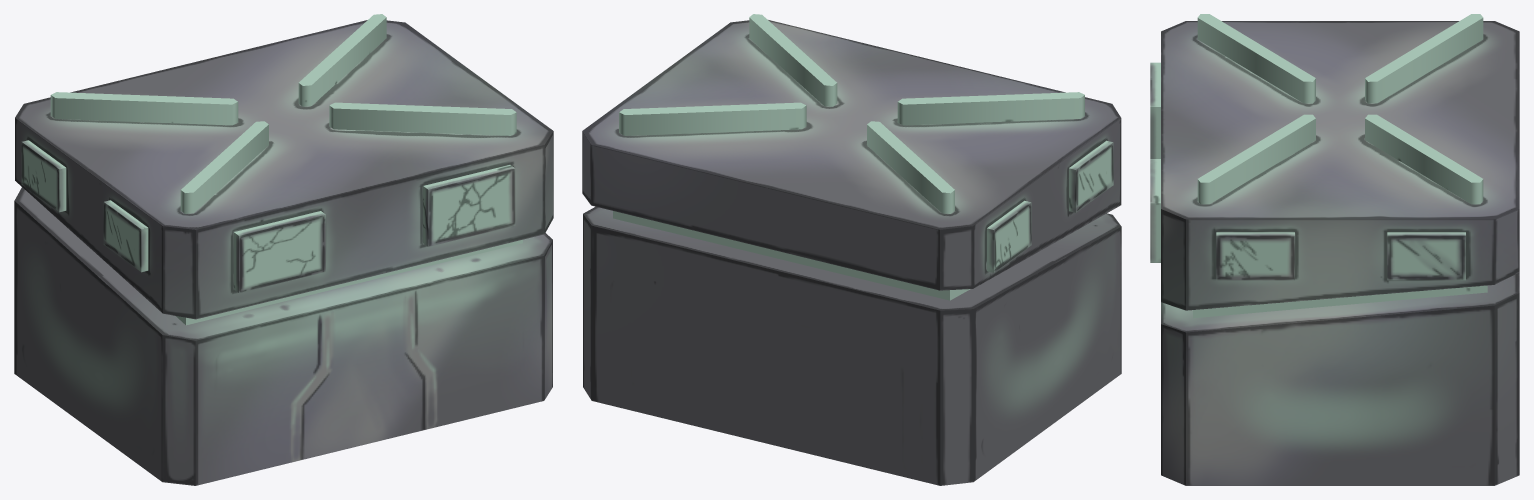
Rendered from ENV_Objective_ChestAdd.fbx.
3 views of the same model, side by side, from view 1: azimuth 30°, elevation 25°; view 2: azimuth 150°, elevation 25°; view 3: azimuth 270°, elevation 25° (orthographic). The views are drawn at different scales.
Parts seen in each view (by area): view 1: ChestTop, ChestBottom; view 2: ChestBottom, ChestTop; view 3: ChestTop, ChestBottom.
Boxes of the visible parts, x1,y1,x2,y2 form: ChestTop: (15,14,553,319); ChestBottom: (14,187,552,485); ChestBottom: (583,206,1121,485); ChestTop: (582,14,1121,290); ChestTop: (1150,14,1519,310); ChestBottom: (1161,272,1519,485).
Bounding box in the file's own units: 128 × 97.54 × 83.98.
